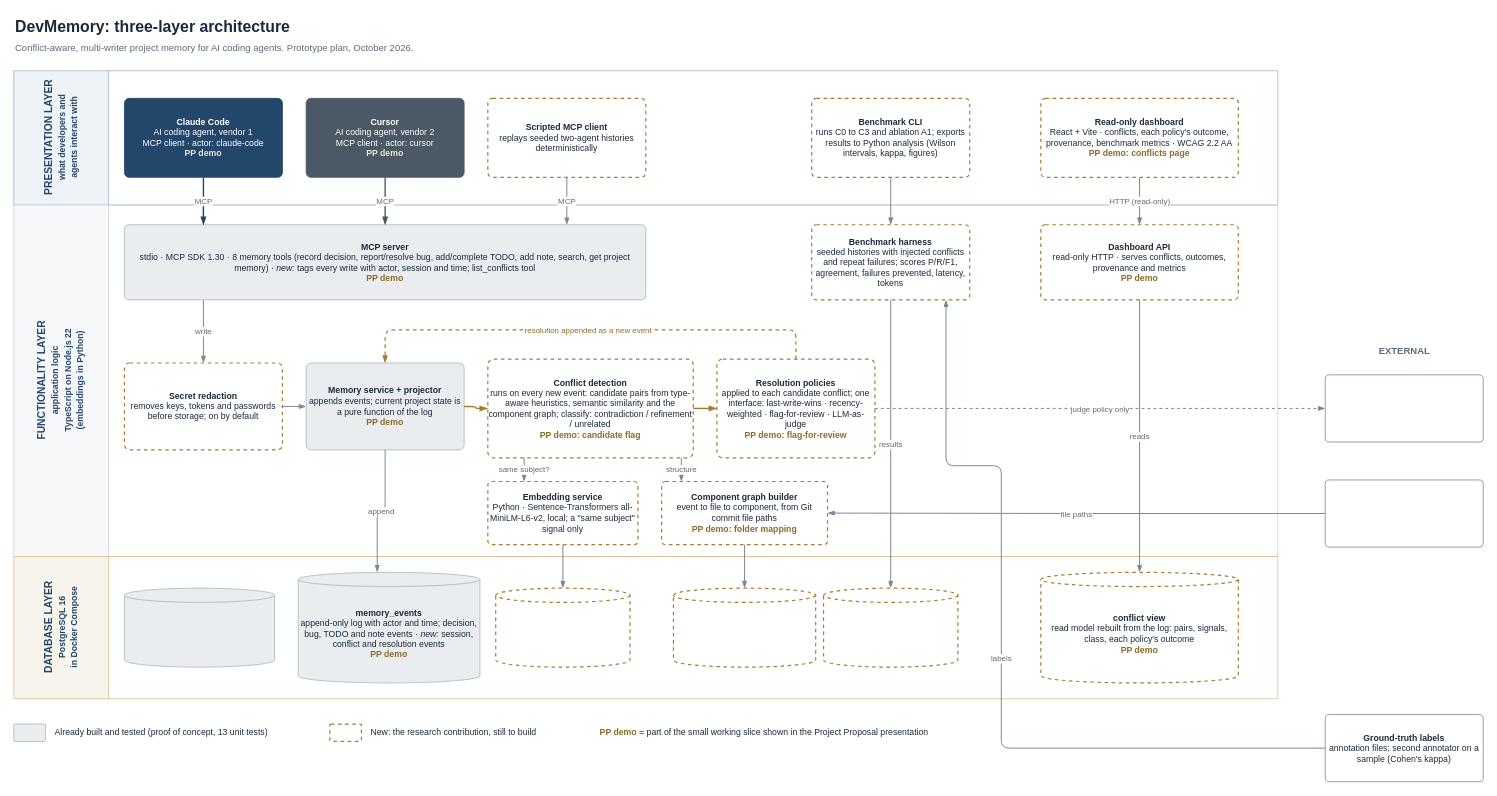
Some shapes in this 1497 by 796 pixel diagram are drawn without their labels. The shapes that lost their labels are listed below. From the top down, each one's centre as x and y in pixels, then its label:
(x=1403, y=408): LLM API version-pinned Claude model, temperature 0, cached; judge policy only
(x=1403, y=513): Git repositories seeded (own or permissively licensed) and the author's own
(x=199, y=627): projects one row per project
(x=562, y=627): embedding cache vectors per event and model
(x=744, y=627): component graph edge table: event to file, file to component
(x=890, y=627): benchmark results runs, metrics, LLM response cache
